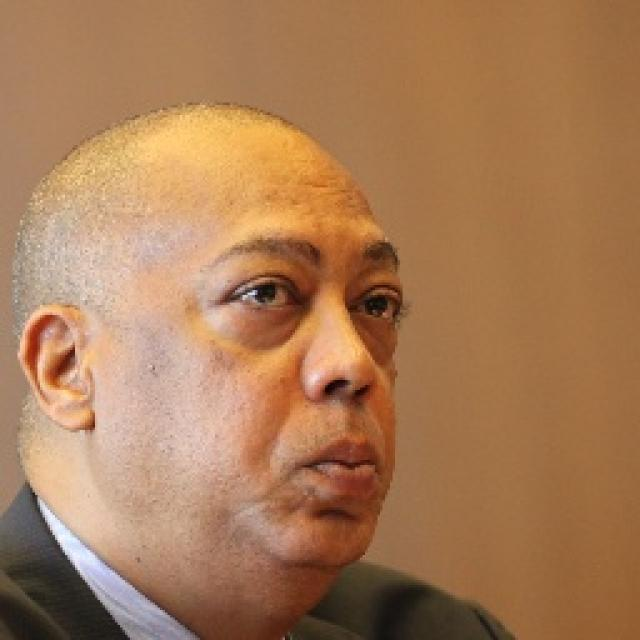earlobe: (60, 393, 94, 432)
eye: (357, 289, 406, 323), (235, 280, 294, 308)
nose: (305, 384, 376, 436)
wholeear: (19, 304, 94, 432)
